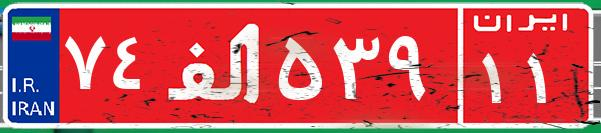1: (475, 38, 525, 113), (525, 38, 570, 115)
3: (330, 28, 385, 110)
4: (110, 28, 158, 105)
5: (273, 28, 330, 110)
7: (57, 26, 110, 107)
9: (385, 28, 445, 110)
الف: (158, 15, 273, 115)
